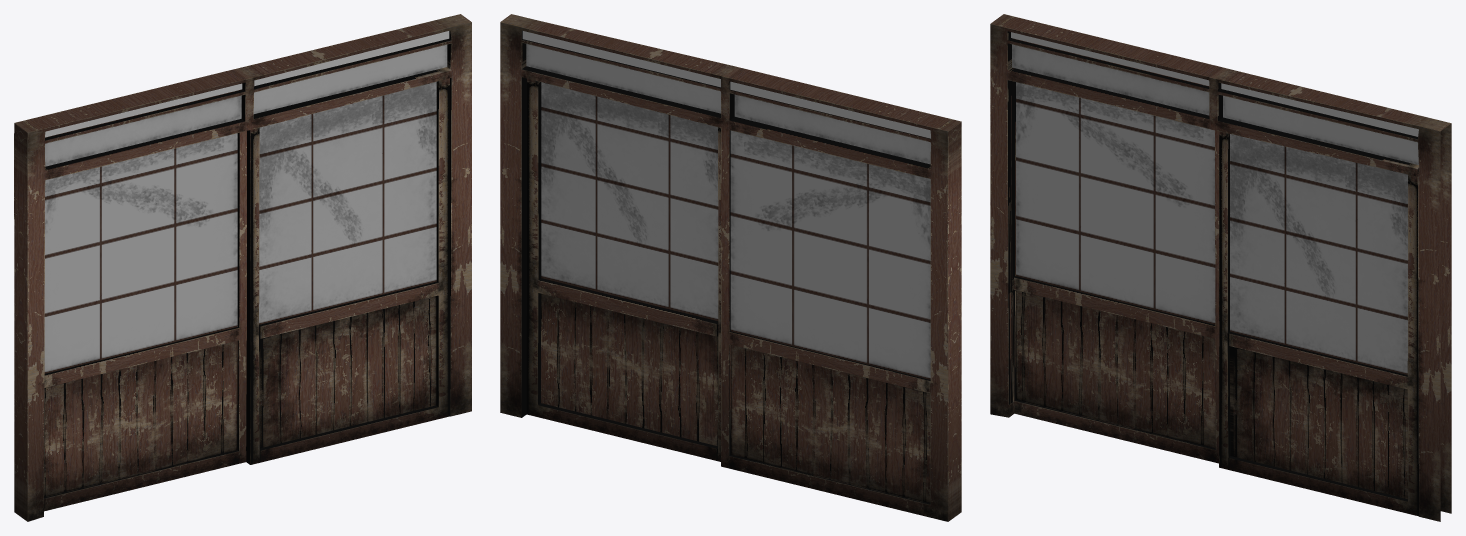
File: Door_New_4.fbx
The picture shows the model from 3 angles, left to right: view 1: azimuth 30°, elevation 25°; view 2: azimuth 150°, elevation 25°; view 3: azimuth 330°, elevation 25°; orthographic projection.
Parts seen in each view (by area): view 1: pCube66, pCube74.002; view 2: pCube66, pCube74.002; view 3: pCube66, pCube74.002.
Boxes of the visible parts, box(x1,y1,x2,y2) form: pCube66: box(14, 14, 471, 521); pCube74.002: box(246, 78, 449, 464); pCube66: box(500, 14, 961, 521); pCube74.002: box(526, 78, 720, 461); pCube66: box(990, 14, 1451, 521); pCube74.002: box(1219, 131, 1418, 516).
Size of the model in its own units: 600 by 500 by 31.82.
